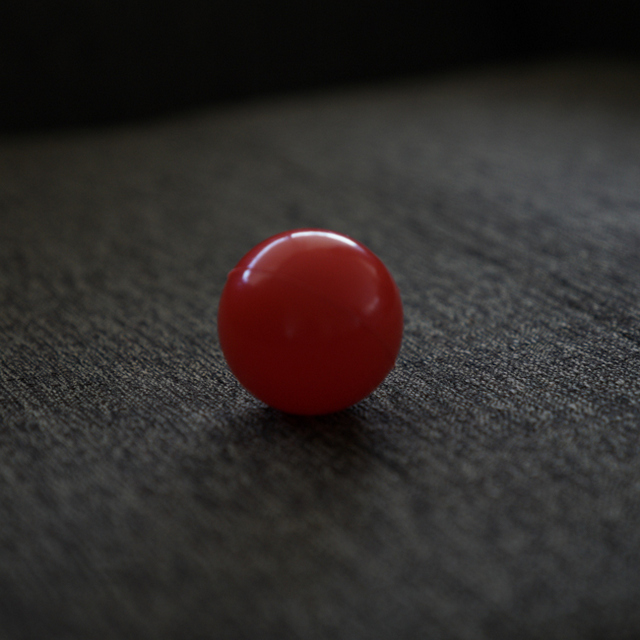Ball: (224, 226, 407, 419)
